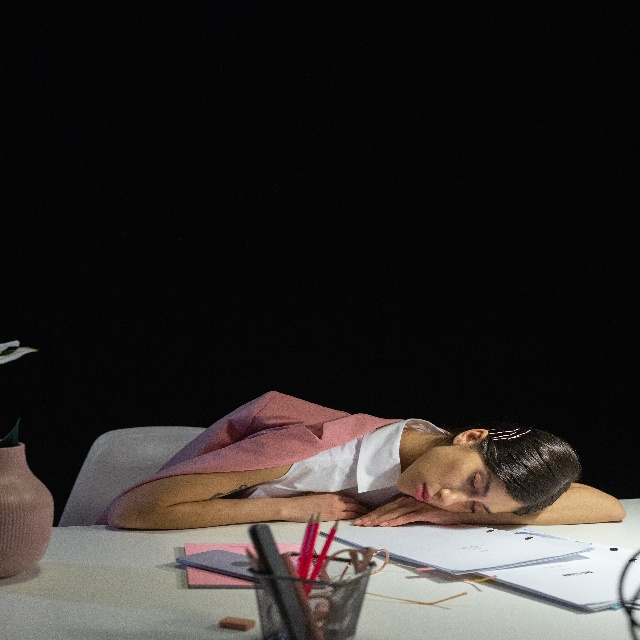Sin_guantes: (353, 496, 461, 527), (289, 492, 371, 523)
